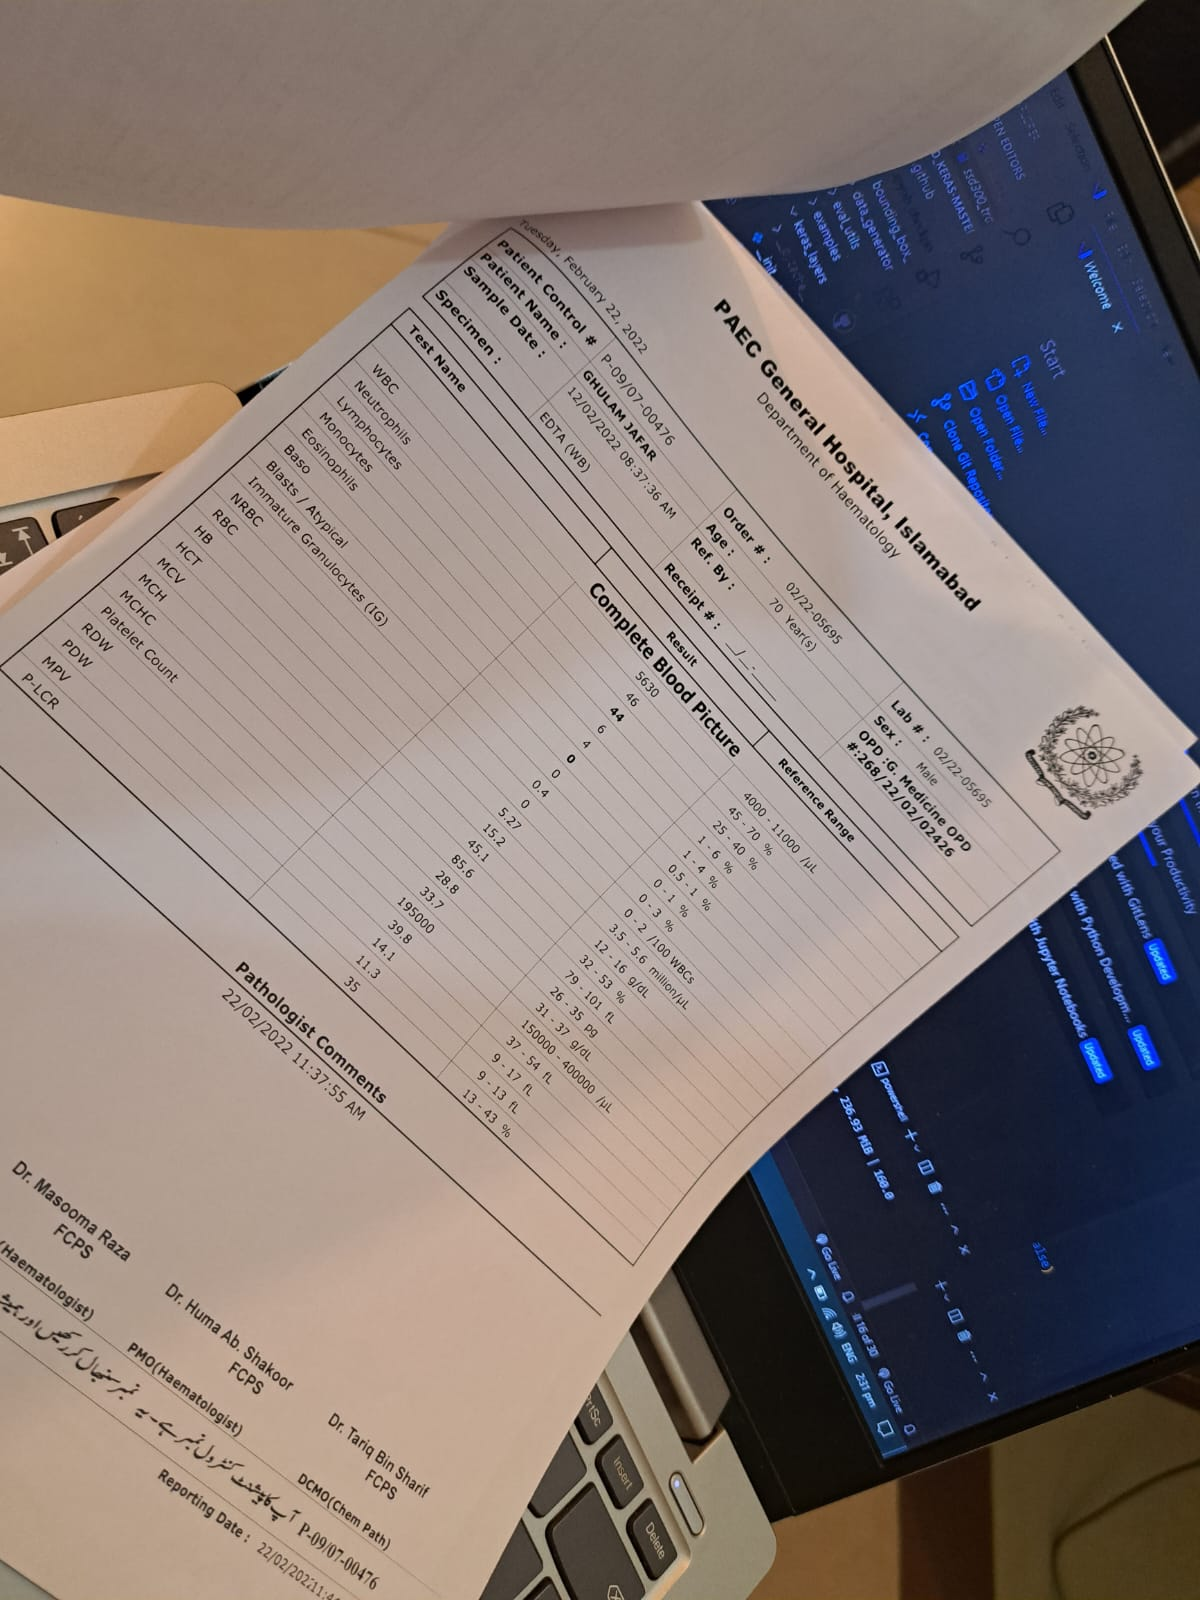report: (8, 307, 959, 1275)
